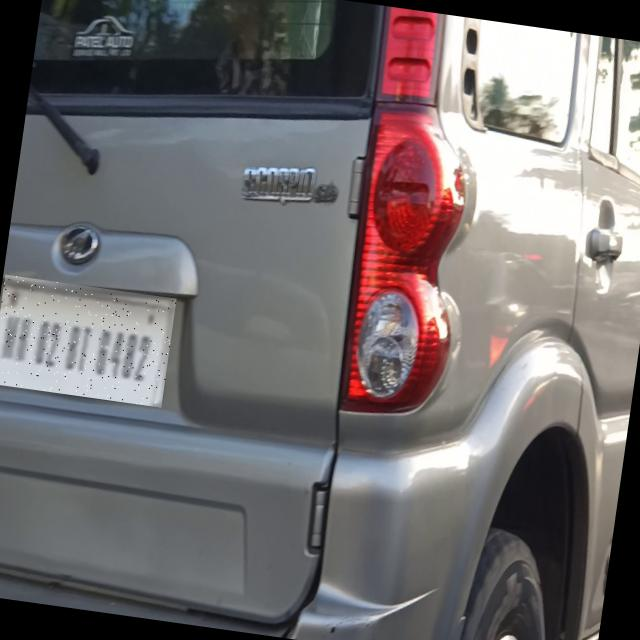Plate: (1, 276, 177, 409)
